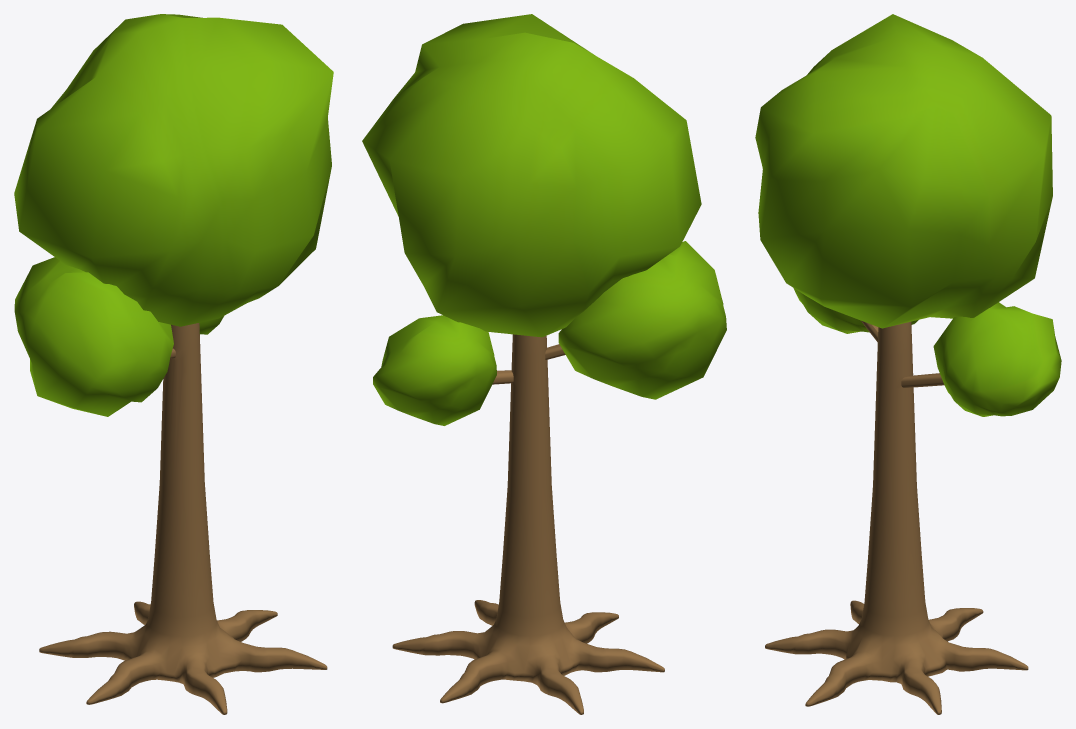
The model's file is Tree1.fbx.
The picture shows the model from 3 angles, left to right: view 1: azimuth 30°, elevation 25°; view 2: azimuth 150°, elevation 25°; view 3: azimuth 270°, elevation 25°; orthographic projection. The views are drawn at different scales.
Visible parts, largest first — view 1: Tree; view 2: Tree; view 3: Tree.
Boxes of the visible parts, left/top/right/bottom form: Tree: left=14, top=14, right=333, bottom=714; Tree: left=362, top=14, right=726, bottom=714; Tree: left=755, top=14, right=1061, bottom=714.
Size of the model in its own units: 5.01 by 9.59 by 4.26.
